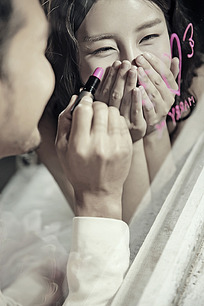face: (81, 1, 175, 130), (1, 1, 56, 159)
